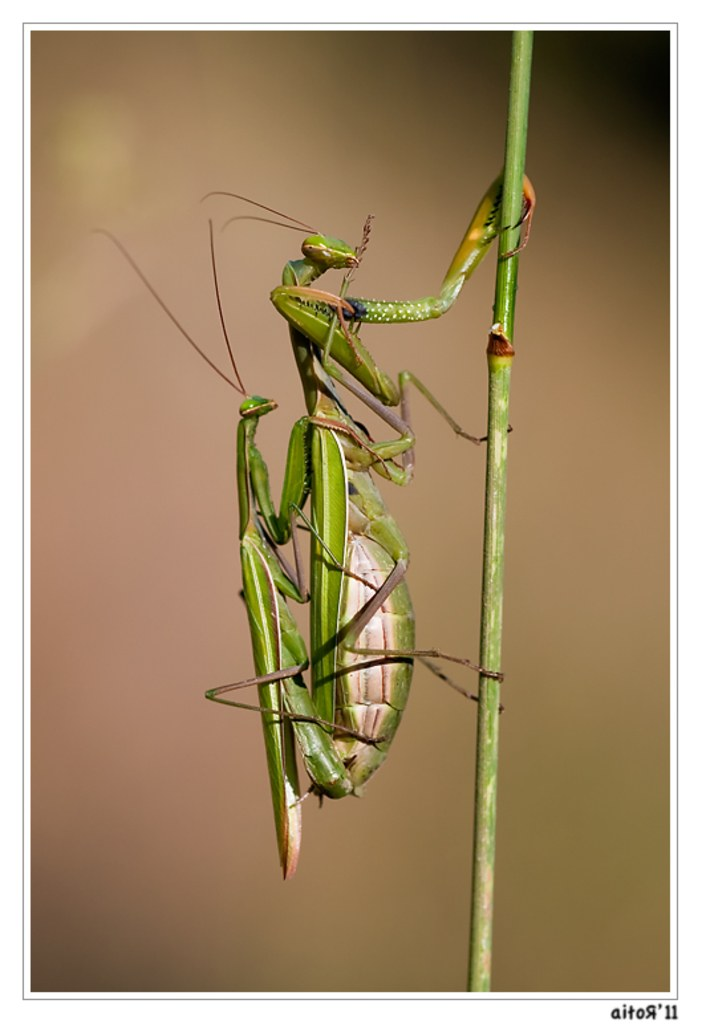insect: (109, 166, 543, 885)
